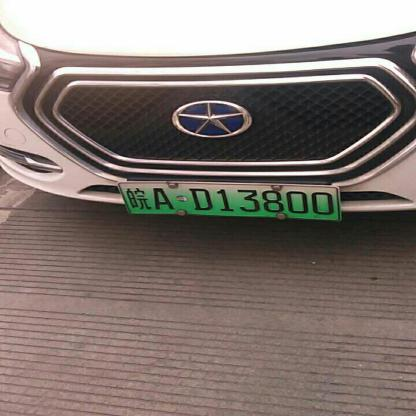lp: (116, 183, 340, 219)
